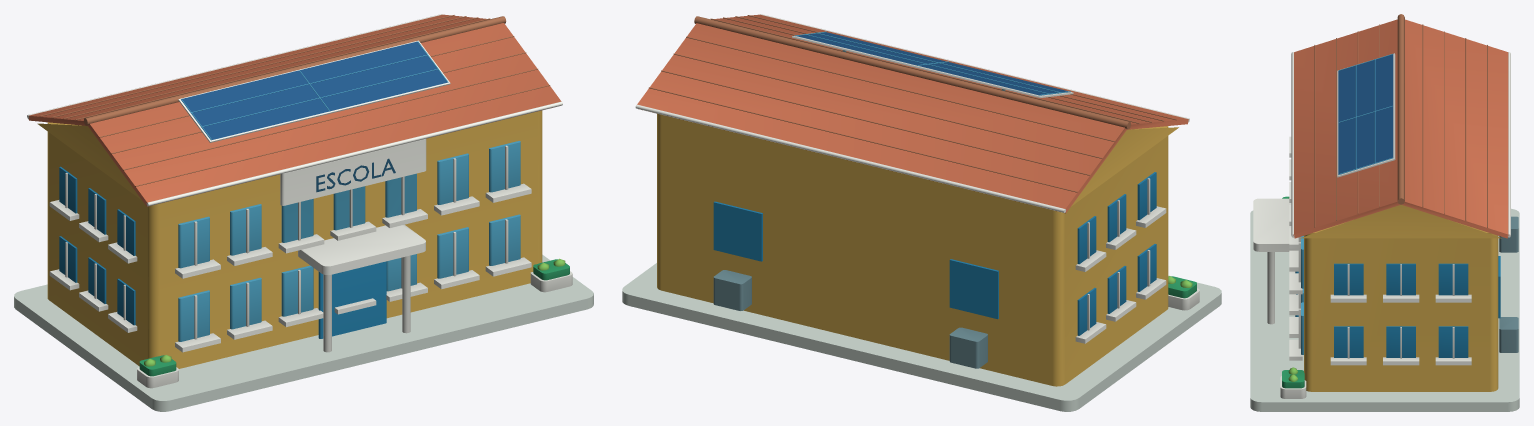
The model's file is solar-school-low.glb.
3 renders of one model, left to right at view 1: azimuth 30°, elevation 25°; view 2: azimuth 150°, elevation 25°; view 3: azimuth 270°, elevation 25°, orthographic. The views are drawn at different scales.
Parts seen in each view (by area): view 1: school classroom wings, terracotta roof slopes, rounded rain gutter, school forecourt, solar cell division, photovoltaic cells, school entrance doors, rounded ridge cap, planter foliage, identity ESCOLA; view 2: school classroom wings, terracotta roof slopes, school forecourt, school entrance doors, rounded ridge cap, rounded rain gutter, photovoltaic cells, panel foot, solar cell division; view 3: terracotta roof slopes, school classroom wings, school forecourt, rounded rain gutter, school entrance doors, photovoltaic cells, rounded ridge cap, panel foot, solar cell division, planter foliage.
Boxes of the visible parts, x1=… form: school classroom wings: x1=37, y1=110, x2=542, y2=368; terracotta roof slopes: x1=28, y1=14, x2=561, y2=206; rounded rain gutter: x1=27, y1=14, x2=572, y2=388; school forecourt: x1=14, y1=254, x2=593, y2=411; solar cell division: x1=178, y1=41, x2=520, y2=341; photovoltaic cells: x1=181, y1=41, x2=448, y2=140; school entrance doors: x1=59, y1=166, x2=386, y2=338; rounded ridge cap: x1=40, y1=15, x2=550, y2=186; planter foliage: x1=139, y1=259, x2=569, y2=376; identity ESCOLA: x1=316, y1=158, x2=395, y2=192; school classroom wings: x1=657, y1=113, x2=1178, y2=386; terracotta roof slopes: x1=637, y1=14, x2=1188, y2=213; school forecourt: x1=622, y1=263, x2=1221, y2=411; school entrance doors: x1=713, y1=172, x2=1156, y2=335; rounded ridge cap: x1=649, y1=15, x2=1176, y2=192; rounded rain gutter: x1=635, y1=14, x2=1199, y2=343; photovoltaic cells: x1=796, y1=32, x2=1070, y2=95; panel foot: x1=713, y1=50, x2=1005, y2=368; solar cell division: x1=795, y1=31, x2=1070, y2=95; terracotta roof slopes: x1=1293, y1=19, x2=1508, y2=238; school classroom wings: x1=1300, y1=204, x2=1501, y2=391; school forecourt: x1=1250, y1=208, x2=1519, y2=411; rounded rain gutter: x1=1253, y1=52, x2=1510, y2=398; school entrance doors: x1=1295, y1=256, x2=1500, y2=357; photovoltaic cells: x1=1338, y1=54, x2=1393, y2=174; rounded ridge cap: x1=1314, y1=14, x2=1487, y2=227; panel foot: x1=1499, y1=216, x2=1518, y2=352; solar cell division: x1=1301, y1=54, x2=1392, y2=354; planter foliage: x1=1282, y1=196, x2=1304, y2=388.
Size of the model in its own units: 8.5 by 4.29 by 5.
